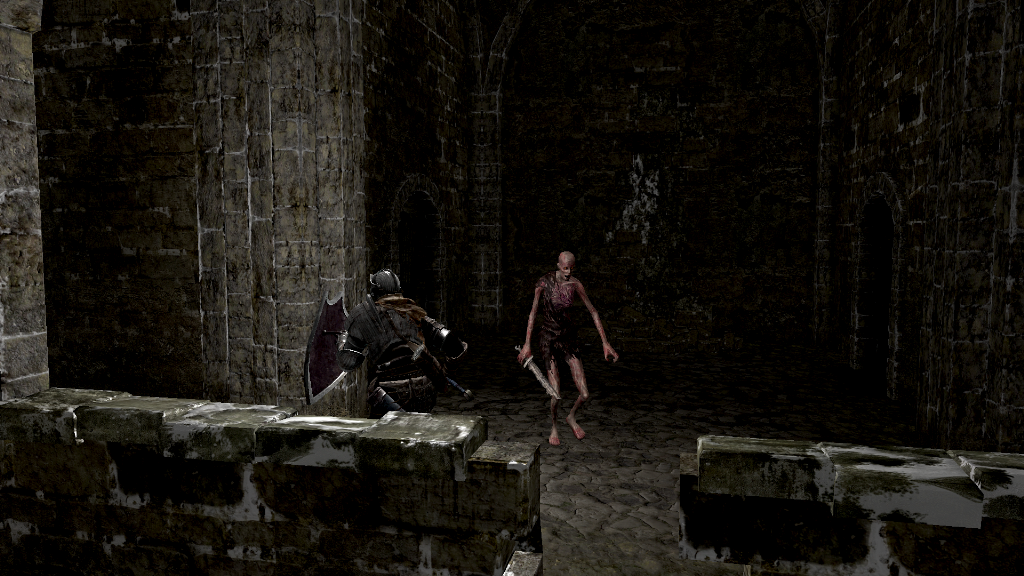hollow: (516, 250, 619, 445)
player: (301, 267, 475, 414)
